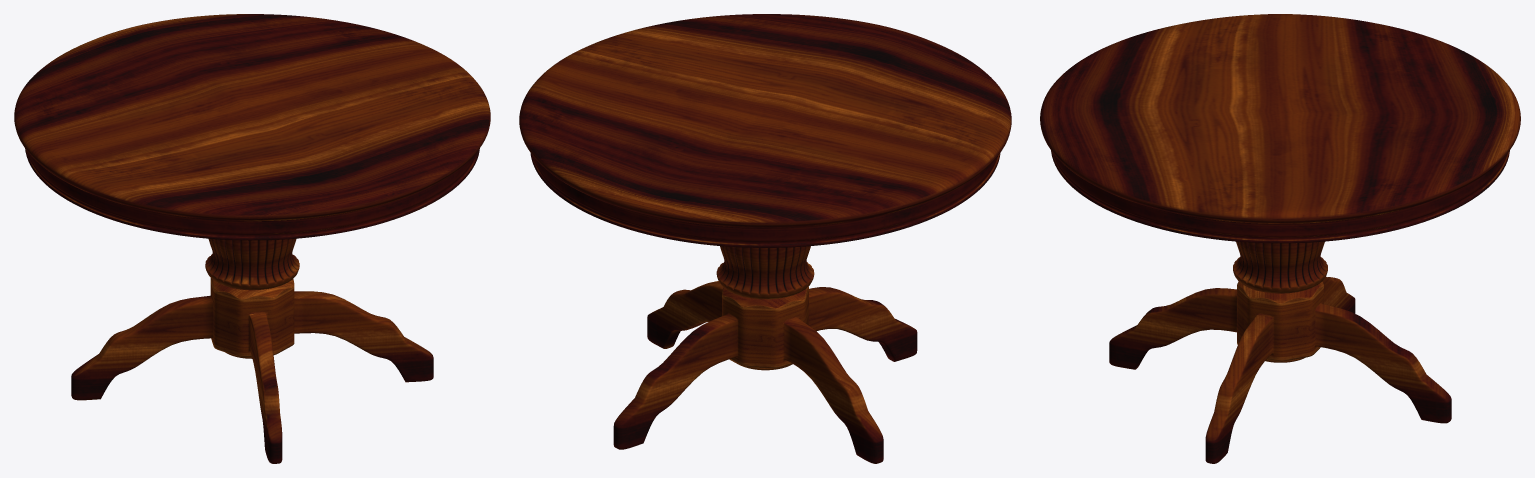
Rendered from table_6.glb.
3 views of the same model, side by side, from view 1: azimuth 30°, elevation 25°; view 2: azimuth 150°, elevation 25°; view 3: azimuth 270°, elevation 25° (orthographic). The views are drawn at different scales.
Parts seen in each view (by area): view 1: Cylinder; view 2: Cylinder; view 3: Cylinder.
Boxes of the visible parts, box(x1,y1,x2,y2) form: Cylinder: box(14, 14, 490, 463); Cylinder: box(519, 14, 1011, 463); Cylinder: box(1040, 14, 1520, 463).
Size of the model in its own units: 10.38 by 6.69 by 10.38.
Materials: 1 (1 with a texture image).
